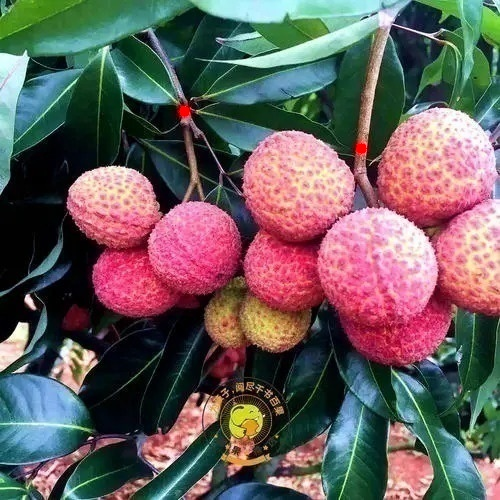litchi: (245, 133, 494, 358), (82, 172, 244, 338)
stem: (148, 24, 202, 187), (348, 27, 388, 189)
